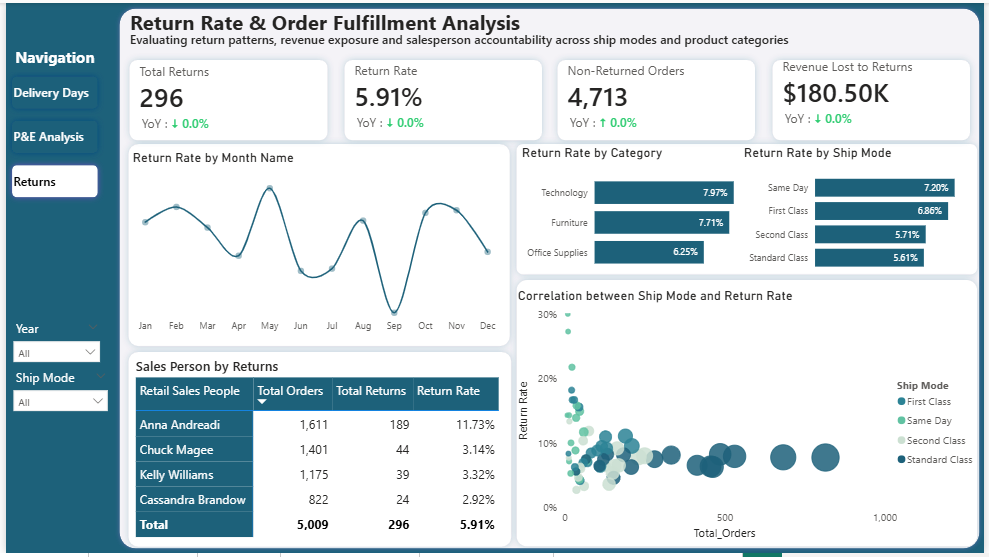

What the dashboard file says about the page in this screenshot:
{"tool":"powerbi","page":{"name":"Returns","canvas":[1280,720],"ordinal":2},"visuals":[{"type":"shape","box":[142.4,1.3,1137.6,718.7],"z":0},{"type":"group","id":"g1","title":"Group 1","box":[142.6,65,297.3,154.1],"z":0,"group":"g9"},{"type":"shape","box":[142,176,537.1,283],"z":0,"group":"g3"},{"type":"shape","box":[649.8,176,631,189],"z":0,"group":"g7"},{"type":"shape","box":[649,353,631,367],"z":0,"group":"g8"},{"type":"shape","box":[141,447.8,539.1,273],"z":500,"group":"g5"},{"type":"shape","box":[142.6,65,297.3,123.3],"z":1000,"group":"g1"},{"type":"group","id":"g2","title":"Group 2","box":[423.5,65,296.4,152.4],"z":1000,"group":"g9"},{"type":"shape","box":[423.5,65,296.6,123.3],"z":1000,"group":"g2"},{"type":"group","id":"g3","title":"Group 6","box":[142,176,537.1,283],"z":1000},{"type":"scatterChart","title":"Correlation between Ship Mode and Return Rate","fields":{"Category":["Dim_Products.Sub-Category"],"Series":["Facts_Table.Ship Mode"],"Size":["Dax Measures.Total_Orders"],"X":["Dax Measures.Total_Orders"],"Y":["Dax Measures.Return_Rate"]},"box":[669.9,373.1,604.1,330.1],"z":1000,"group":"g8"},{"type":"group","id":"g4","title":"Group 3","box":[983.8,65,296.4,148],"z":2000,"group":"g9"},{"type":"shape","box":[983.8,65,296.6,123.3],"z":2000,"group":"g4"},{"type":"cardVisual","fields":{"Data":["Dax Measures.Total Returns"]},"box":[162.9,76.8,254.3,142.3],"z":2000,"group":"g1"},{"type":"group","id":"g5","title":"Group 7","box":[141,447.8,540,273],"z":2000},{"type":"group","id":"g6","title":"Group 4","box":[703.5,65,296.6,152.4],"z":3000,"group":"g9"},{"type":"group","id":"g7","title":"Group 8","box":[649.8,176,631,189],"z":3000},{"type":"shape","box":[703.5,65,296.6,123.3],"z":4000,"group":"g6"},{"type":"barChart","fields":{"Category":["ShipMode Sort.Ship Mode"],"Y":["Dax Measures.Return Rate"]},"box":[966.1,187,301.1,172.4],"z":4000,"group":"g7"},{"type":"lineChart","fields":{"Category":["Calendar Table.Year Hierarchy.Year","Calendar Table.Year Hierarchy.Month Name","Calendar Table.Year Hierarchy.Day Name"],"Y":["Dax Measures.Return Rate"]},"box":[162.3,192.6,490.8,248.4],"z":4000,"group":"g3"},{"type":"group","id":"g8","title":"Group 9","box":[649,353,631,367],"z":4000},{"type":"group","id":"g9","title":"Group 5","box":[142.6,65,1137.6,154.1],"z":5000},{"type":"cardVisual","fields":{"Data":["Dax Measures.Return Rate"]},"box":[444.3,75.2,255.1,142.2],"z":5000,"group":"g2"},{"type":"cardVisual","fields":{"Data":["Dax Measures.Non-Returned Orders"]},"box":[724.3,75.2,255.1,142.2],"z":5000,"group":"g6"},{"type":"barChart","fields":{"Category":["Dim_Products.Category"],"Y":["Dax Measures.Return Rate"]},"box":[675.5,187,283,172.4],"z":5000,"group":"g7"},{"type":"pageNavigator","title":"Navigation","box":[0,56.2,128.2,207.4],"z":6000},{"type":"cardVisual","fields":{"Data":["Dax Measures.Revenue Lost to Returns"]},"box":[1004.6,70.8,255.1,142.2],"z":6000,"group":"g4"},{"type":"slicer","fields":{"Values":["Calendar Table.Year"]},"box":[0,414.7,128.2,64.8],"z":7000},{"type":"pivotTable","title":"Sales Person by Returns","fields":{"Rows":["Facts_Table.Retail Sales People"],"Values":["Dax Measures.Total_Orders","Dax Measures.Total Returns","Dax Measures.Return Rate"]},"box":[164.2,462.5,494,243.7],"z":8000,"group":"g5"},{"type":"slicer","fields":{"Values":["Facts_Table.Ship Mode"]},"box":[0,479.5,138.2,64.8],"z":8000},{"type":"textbox","box":[162.7,6,702.7,40.3],"z":9000},{"type":"textbox","box":[162.7,36,921.6,40.3],"z":10000}]}

Visuals, with their boxes on the page's 1280x720 design canvas (x1, y1, x2, y2). These are canvas units, not pixel positions in the 989x557 screenshot, which may show the page scaled, cropped or inside an application window:
shape: Rect(142, 1, 1280, 720)
"Group 1" group: Rect(143, 65, 440, 219)
shape: Rect(142, 176, 679, 459)
shape: Rect(650, 176, 1281, 365)
shape: Rect(649, 353, 1280, 720)
shape: Rect(141, 448, 680, 721)
shape: Rect(143, 65, 440, 188)
"Group 2" group: Rect(424, 65, 720, 217)
shape: Rect(424, 65, 720, 188)
"Group 6" group: Rect(142, 176, 679, 459)
"Correlation between Ship Mode and Return Rate" scatterChart: Rect(670, 373, 1274, 703)
"Group 3" group: Rect(984, 65, 1280, 213)
shape: Rect(984, 65, 1280, 188)
cardVisual - Dax Measures.Total Returns: Rect(163, 77, 417, 219)
"Group 7" group: Rect(141, 448, 681, 721)
"Group 4" group: Rect(704, 65, 1000, 217)
"Group 8" group: Rect(650, 176, 1281, 365)
shape: Rect(704, 65, 1000, 188)
barChart - ShipMode Sort.Ship Mode x Dax Measures.Return Rate: Rect(966, 187, 1267, 359)
lineChart - Calendar Table.Year Hierarchy.Year x Calendar Table.Year Hierarchy.Month Name: Rect(162, 193, 653, 441)
"Group 9" group: Rect(649, 353, 1280, 720)
"Group 5" group: Rect(143, 65, 1280, 219)
cardVisual - Dax Measures.Return Rate: Rect(444, 75, 699, 217)
cardVisual - Dax Measures.Non-Returned Orders: Rect(724, 75, 979, 217)
barChart - Dim_Products.Category x Dax Measures.Return Rate: Rect(676, 187, 958, 359)
"Navigation" pageNavigator: Rect(0, 56, 128, 264)
cardVisual - Dax Measures.Revenue Lost to Returns: Rect(1005, 71, 1260, 213)
slicer - Calendar Table.Year: Rect(0, 415, 128, 480)
"Sales Person by Returns" pivotTable: Rect(164, 462, 658, 706)
slicer - Facts_Table.Ship Mode: Rect(0, 480, 138, 544)
textbox: Rect(163, 6, 865, 46)
textbox: Rect(163, 36, 1084, 76)
